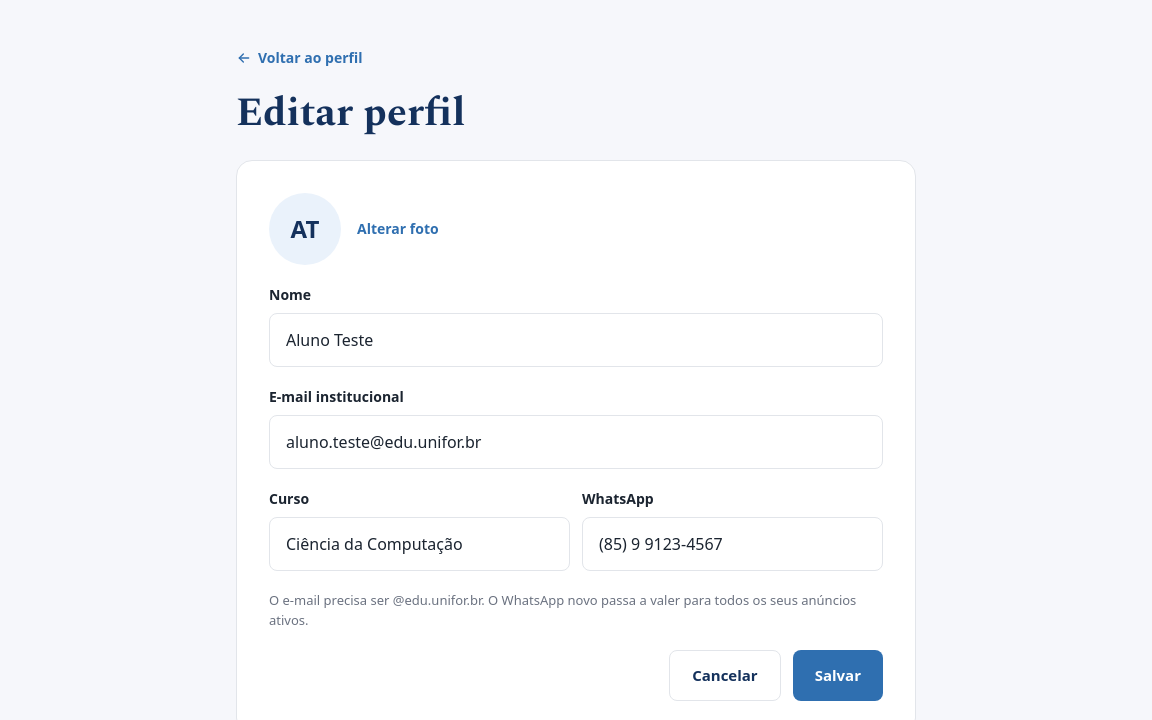
Editar perfil (05b) › o e-mail novo é salvo direto e já aparece no perfil
The image size is (1152, 720).
Replace the text in the field labelled "E-mail institucional" with "novo.email@edu.unifor.br" at (576, 442), box [269,415,883,469]
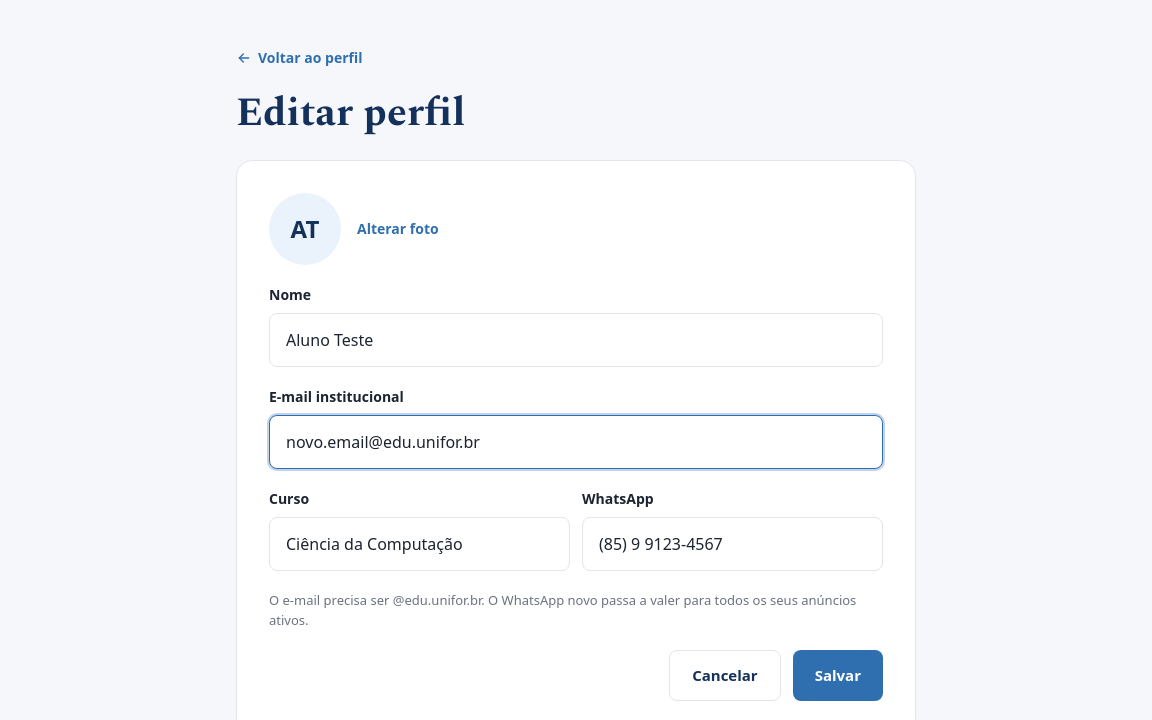
Click the button "Salvar".
click(838, 676)  # box [793,650,883,701]
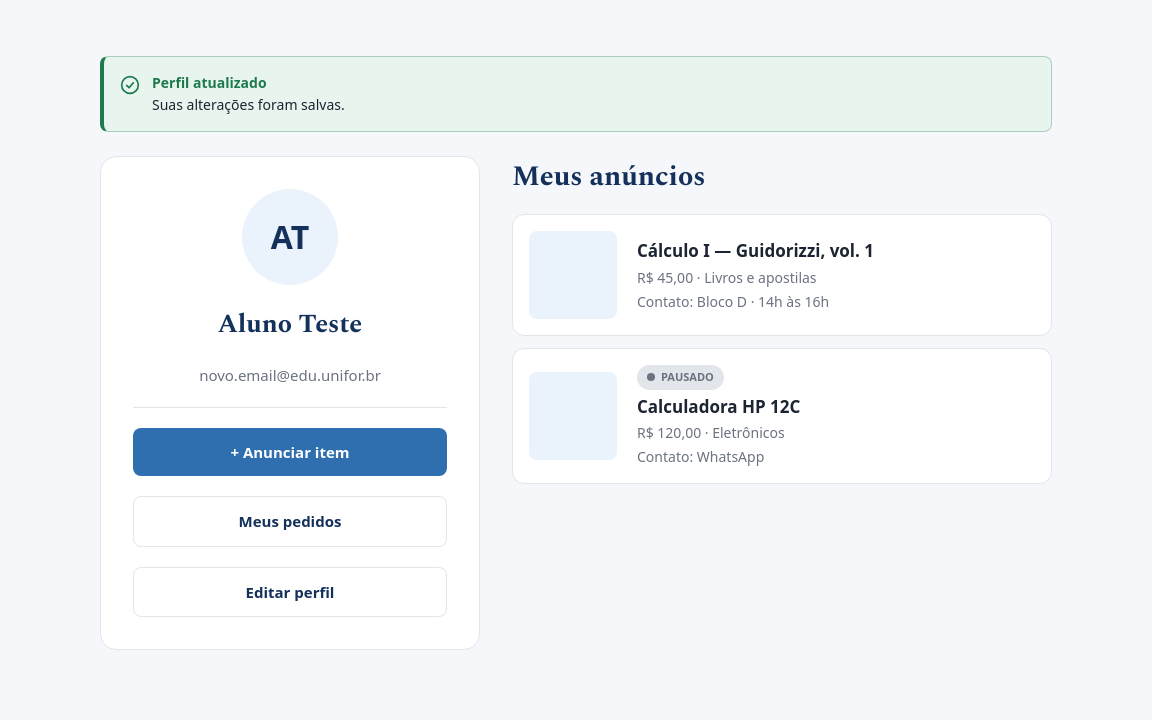
expect the text "novo.email@edu.unifor.br" is shown: met, box [199,364,381,386]
